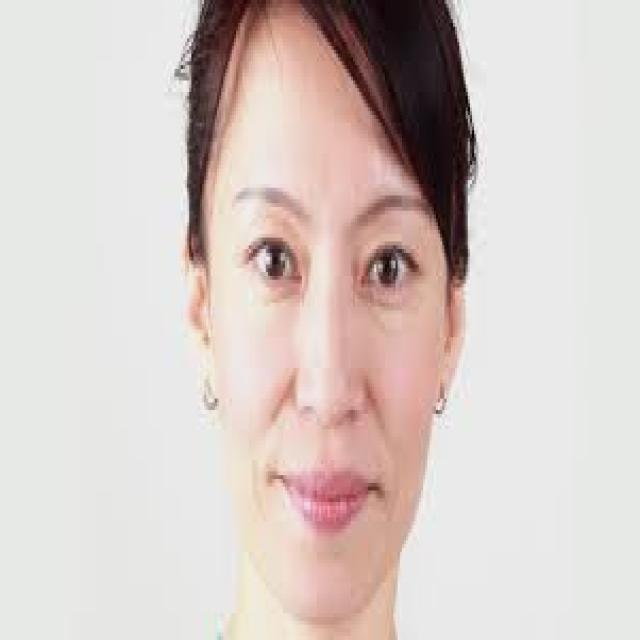normal_face: (187, 14, 465, 615)
